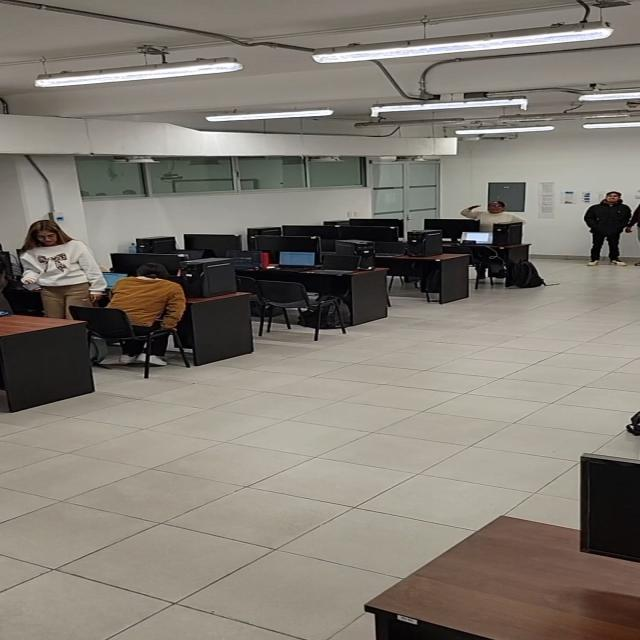Persona: (582, 190, 640, 266)
